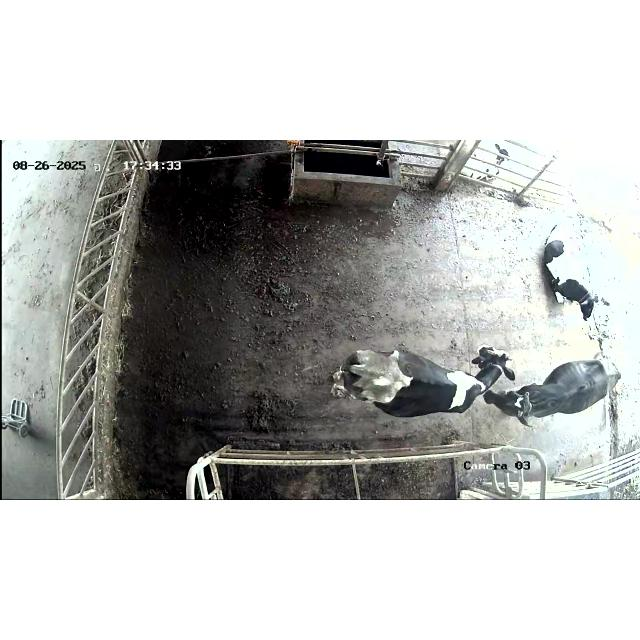stand: (320, 328, 510, 427), (483, 356, 623, 428)
